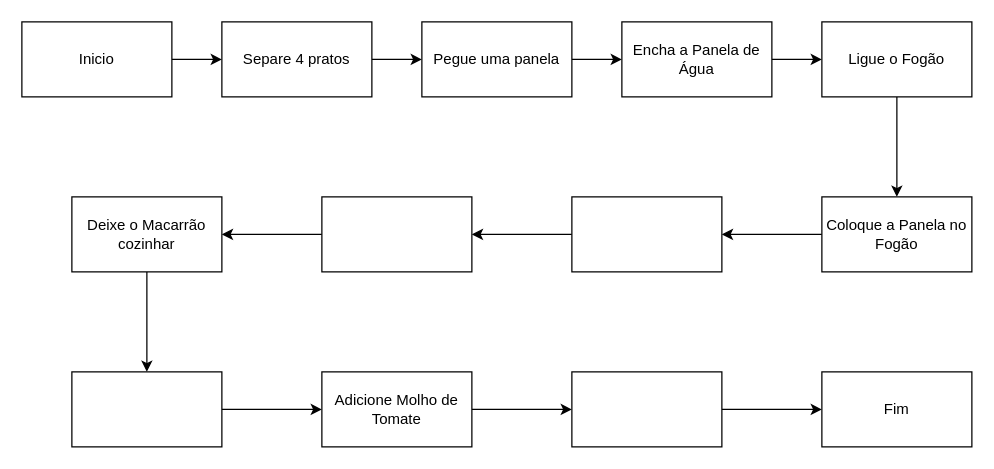
Some shapes in this 994 by 469 pixel diagram are drawn without their labels. The shapes that lost their labels are listed below. From the top down, each one's box as (x1, y1, x2, y2) in pixels, then its label:
(321, 196, 472, 272): Misture a Àgua e Adicione Macarrão
(571, 196, 722, 272): Adicione Sal na água da Panela
(71, 371, 222, 447): Escorra a água da panela, deixando o macarrão só
(571, 371, 722, 447): Misture o macarrão e sirva nos pratos
